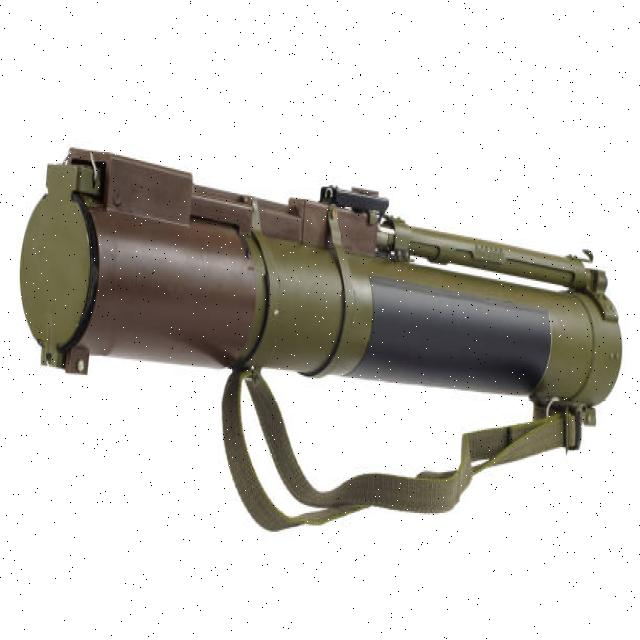bazooka: (15, 131, 627, 443)
